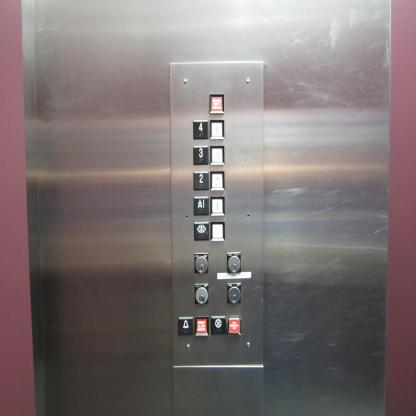1: (210, 196, 225, 216), (210, 119, 224, 140)
2: (193, 170, 209, 190), (210, 170, 225, 191)
3: (193, 146, 209, 165), (209, 145, 224, 165)
4: (192, 119, 209, 140)
alarm: (178, 316, 194, 336)
empty: (210, 221, 226, 242)
keyhole: (194, 283, 209, 305), (226, 252, 240, 274), (194, 252, 208, 273), (227, 282, 240, 304)
open: (193, 221, 210, 241)
s1: (193, 195, 209, 217)
stop: (210, 315, 226, 337)
text: (208, 94, 224, 115)
text_alarm bell: (194, 316, 209, 336)
text_stop: (227, 315, 241, 336)
